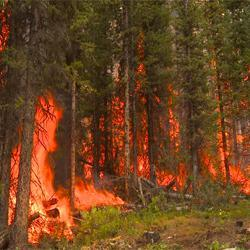fire: (33, 102, 56, 226), (66, 186, 116, 210), (134, 147, 154, 185), (220, 165, 248, 186)
